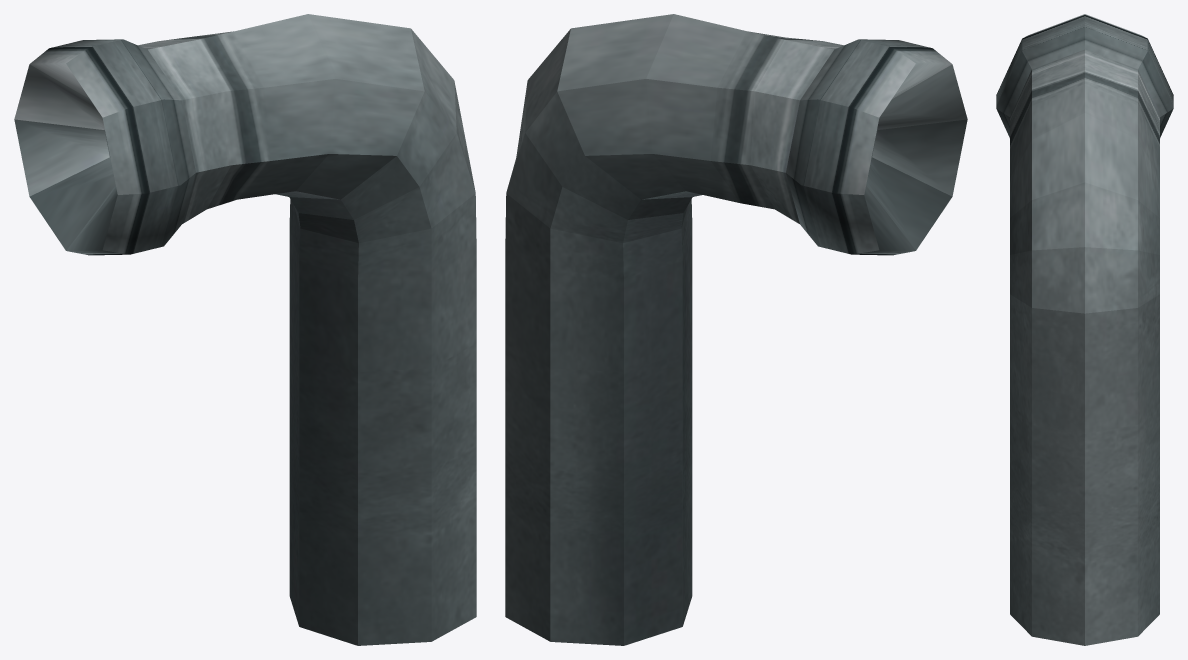
File: desert_L_pipe01.FBX
3 renders of one model, left to right at view 1: azimuth 30°, elevation 25°; view 2: azimuth 150°, elevation 25°; view 3: azimuth 270°, elevation 25°, orthographic. The views are drawn at different scales.
Visible parts, largest first — view 1: Cylinder009; view 2: Cylinder009; view 3: Cylinder009.
Boxes of the visible parts, <box> form: Cylinder009: <box>14,14,476,645</box>; Cylinder009: <box>505,14,967,645</box>; Cylinder009: <box>996,14,1173,645</box>.
Size of the model in its own units: 19.72 by 29.63 by 9.77.
